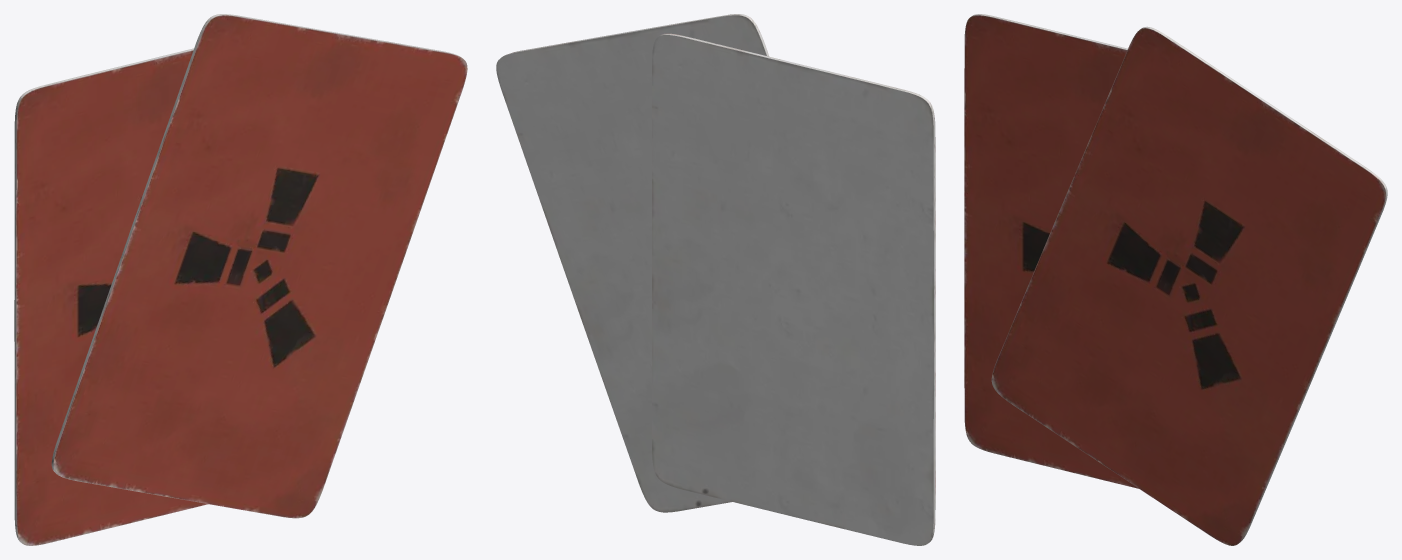
File: cardtableseat.glb
3 renders of one model, left to right at view 1: azimuth 30°, elevation 25°; view 2: azimuth 150°, elevation 25°; view 3: azimuth 330°, elevation 25°, orthographic. The views are drawn at different scales.
Visible parts, largest first — view 1: w_playingcard_LOD0; view 2: w_playingcard_LOD0; view 3: w_playingcard_LOD0.
Part boxes in pixels (bbox=[...]): w_playingcard_LOD0: bbox=[14, 14, 467, 545]; w_playingcard_LOD0: bbox=[496, 14, 935, 545]; w_playingcard_LOD0: bbox=[964, 14, 1387, 545].
Bounding box in the file's own units: 0.1105 × 0.1233 × 0.00264.
Materials: 1 (1 with a texture image).
